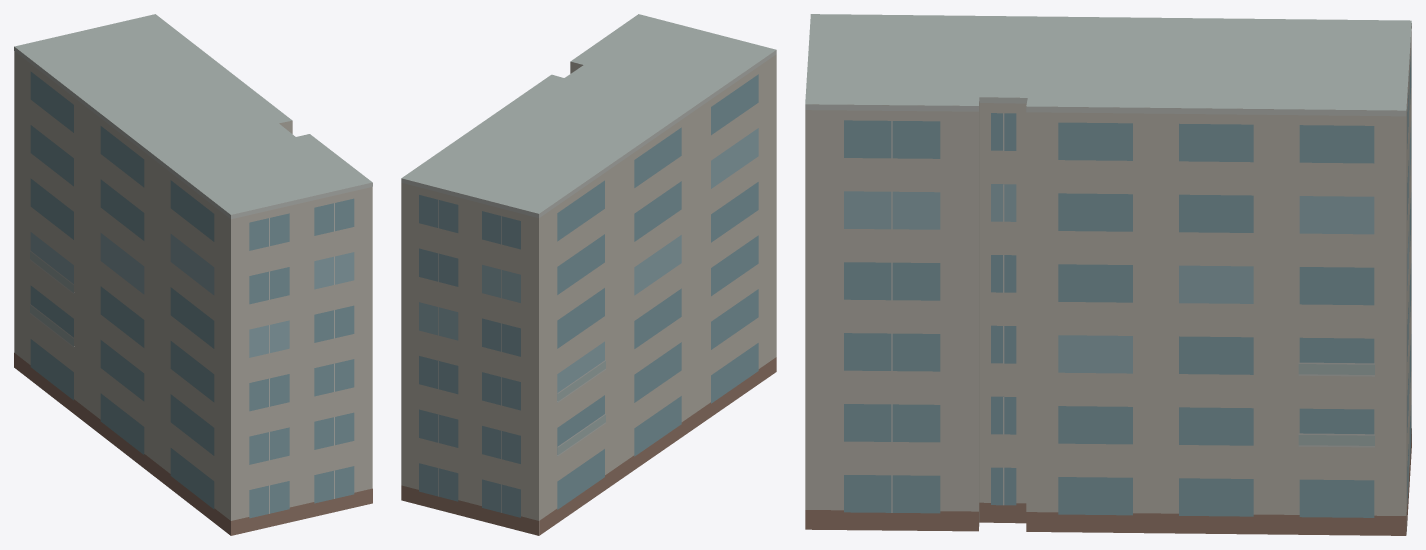
File: survey-upis-32626544.glb
The picture shows the model from 3 angles, left to right: view 1: azimuth 30°, elevation 25°; view 2: azimuth 150°, elevation 25°; view 3: azimuth 270°, elevation 25°; orthographic projection. The views are drawn at different scales.
Parts seen in each view (by area): view 1: survey-upis-32626544.tmp; view 2: survey-upis-32626544.tmp; view 3: survey-upis-32626544.tmp.
Part boxes in pixels (<box>): survey-upis-32626544.tmp: <box>14,14,372,535</box>; survey-upis-32626544.tmp: <box>401,14,776,535</box>; survey-upis-32626544.tmp: <box>805,14,1411,535</box>.
Size of the model in its own units: 8.78 by 18 by 23.28.
